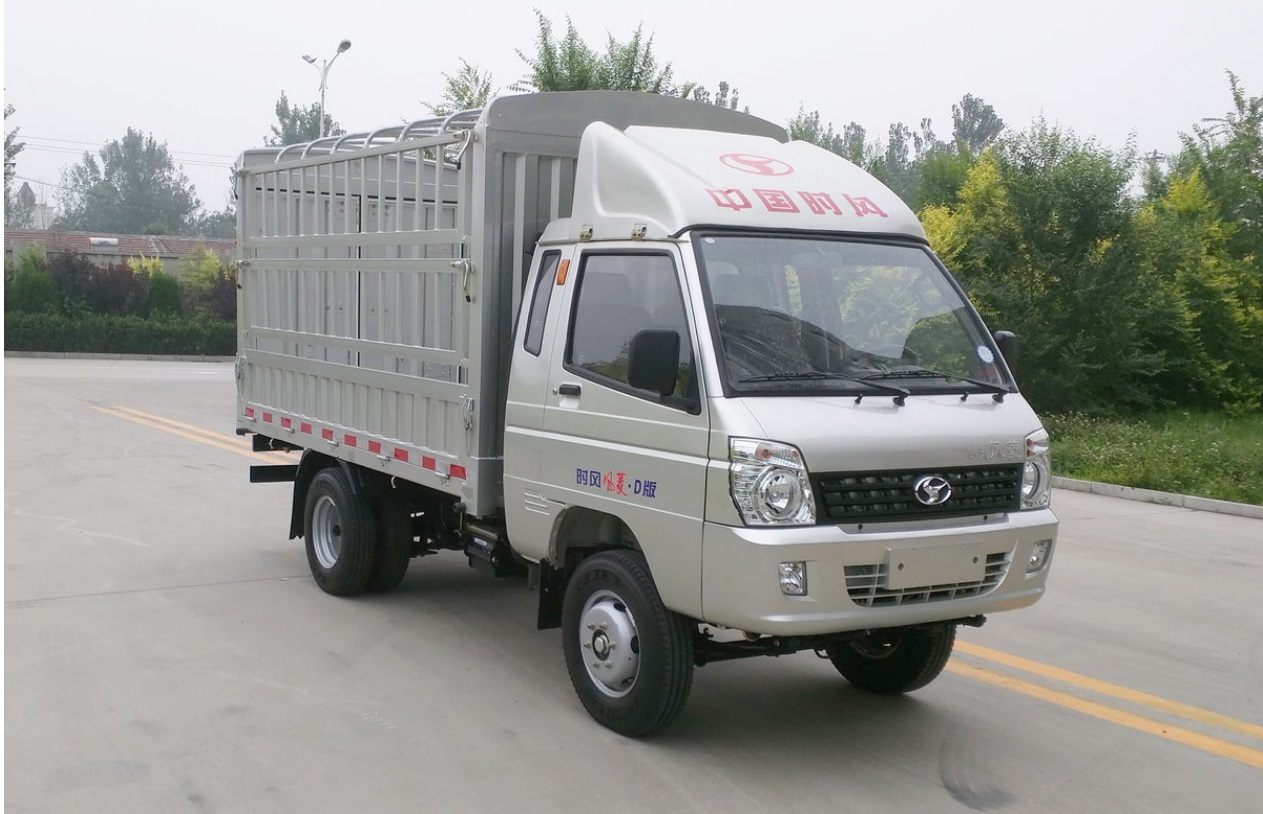truck: (228, 83, 1064, 747)
